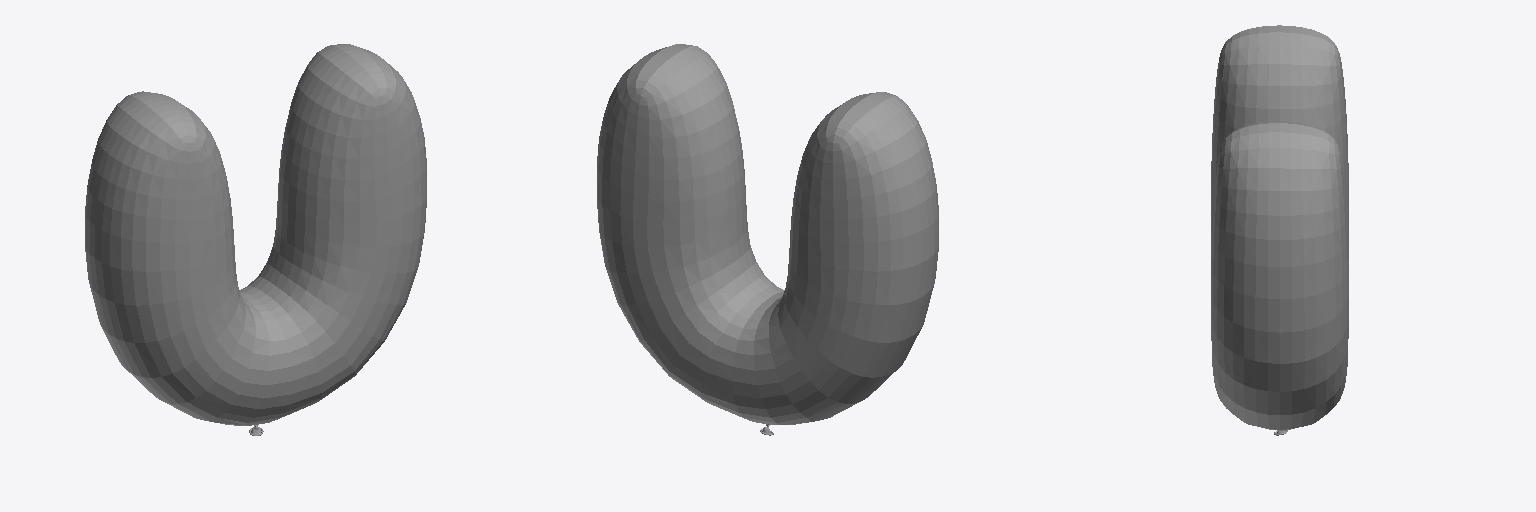
3 views of the same model, side by side, from view 1: azimuth 30°, elevation 25°; view 2: azimuth 150°, elevation 25°; view 3: azimuth 270°, elevation 25° (orthographic).
Parts seen in each view (by area): view 1: Balloon_Alphabet_Subdivision_U_Alphabet_U; view 2: Balloon_Alphabet_Subdivision_U_Alphabet_U; view 3: Balloon_Alphabet_Subdivision_U_Alphabet_U.
Part boxes in pixels (bbox=[...]): Balloon_Alphabet_Subdivision_U_Alphabet_U: bbox=[85, 44, 426, 435]; Balloon_Alphabet_Subdivision_U_Alphabet_U: bbox=[597, 44, 938, 435]; Balloon_Alphabet_Subdivision_U_Alphabet_U: bbox=[1211, 25, 1348, 435].
Bounding box in the file's own units: 47.93 × 50.66 × 17.82.